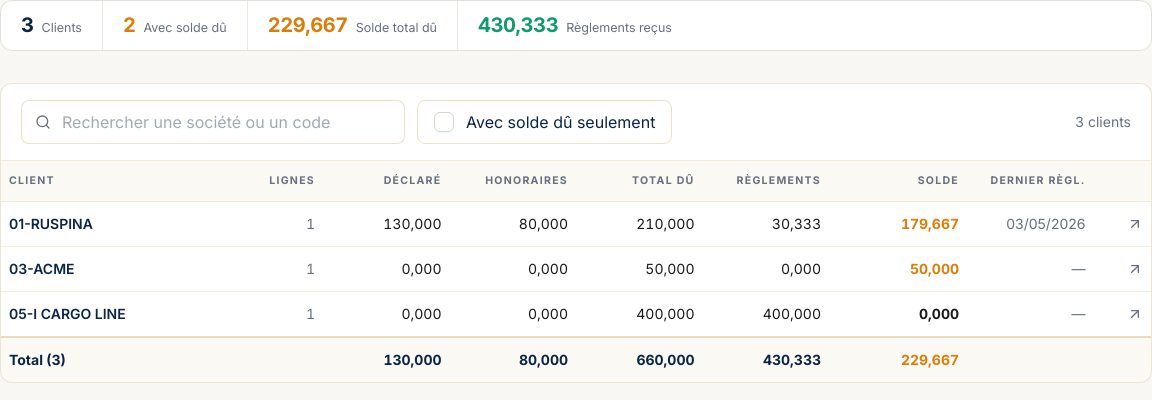
Scenario: récapitulatif de tous les clients › recherche une société
Type "cargo" into the field labelled "Rechercher une société" at (213, 122), box [21,100,405,144]
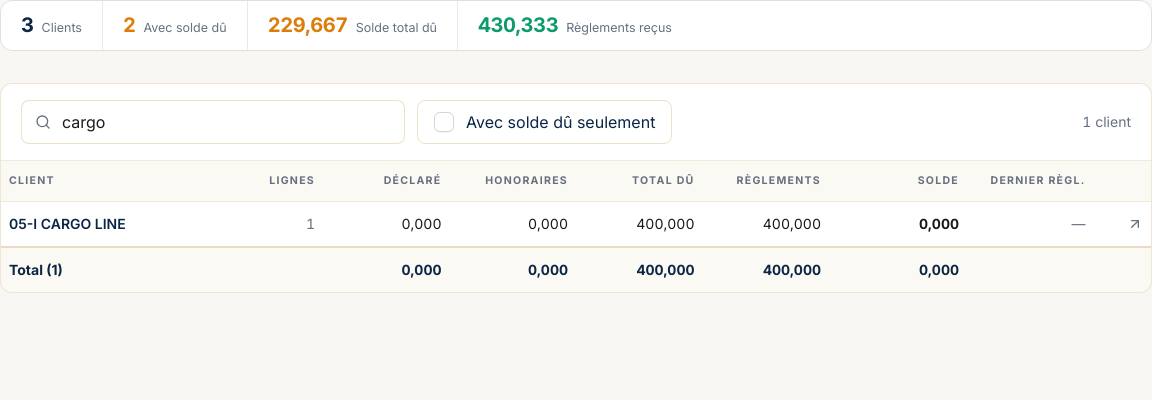
Expected: the button "05-I CARGO LINE" is shown, [9,214,126,234]
Now the button "01-RUSPINA" is gone
